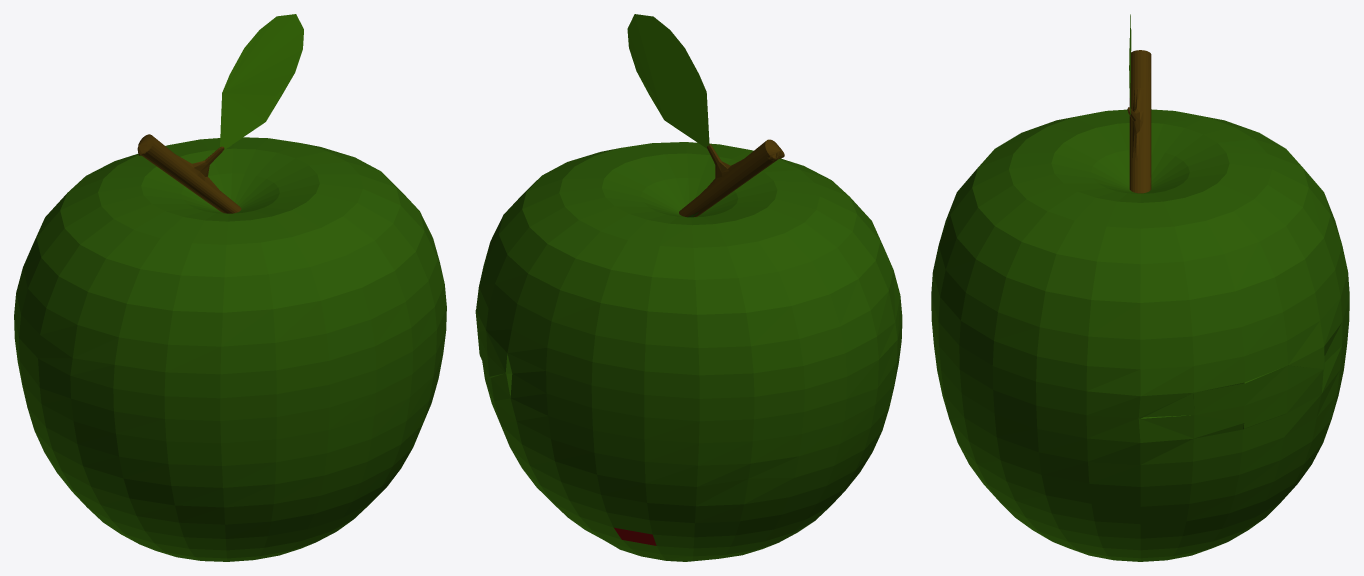
Rendered from Gapple.fbx.
3 renders of one model, left to right at view 1: azimuth 30°, elevation 25°; view 2: azimuth 150°, elevation 25°; view 3: azimuth 270°, elevation 25°, orthographic. The views are drawn at different scales.
Visible parts, largest first — view 1: pasted__pasted__pasted__polySurface52; view 2: pasted__pasted__pasted__polySurface52; view 3: pasted__pasted__pasted__polySurface52.
Part boxes in pixels (x1,y1,x2,y2): pasted__pasted__pasted__polySurface52: [14, 14, 446, 561]; pasted__pasted__pasted__polySurface52: [475, 14, 902, 561]; pasted__pasted__pasted__polySurface52: [931, 14, 1349, 561].
Size of the model in its own units: 3.47 by 4.33 by 3.08.
